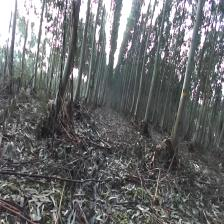trunk: (170, 5, 203, 145), (51, 15, 78, 113), (145, 19, 165, 121), (76, 10, 90, 93)
